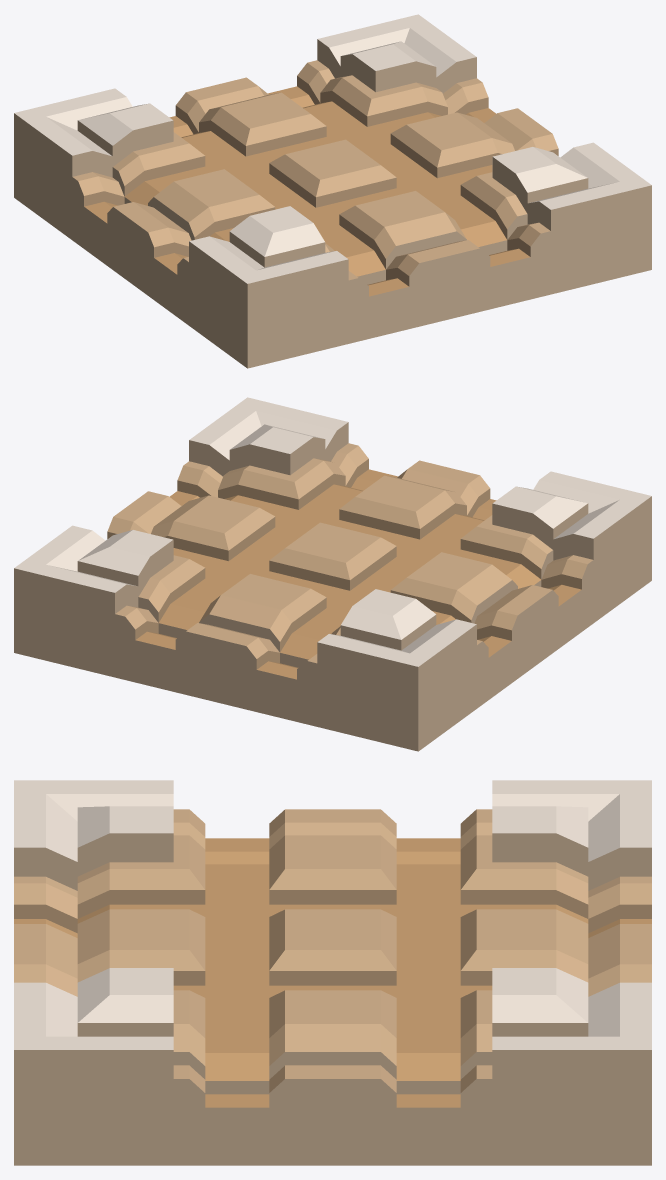
The model's file is Puzzle_Track_Button_Cross.fbx.
3 renders of one model, top to bottom at view 1: azimuth 30°, elevation 25°; view 2: azimuth 150°, elevation 25°; view 3: azimuth 270°, elevation 25°, orthographic. The views are drawn at different scales.
Visible parts, largest first — view 1: Sandstone_Trim.Sandstone_Trim.Sandstone_Trim.Sandstone_Trim. (×2), Sandstone_4.Sandstone_4.Sandstone_4.Sandstone_4.Sandstone_4. (×2), Sandstone_Floor.Sandstone_Floor.Sandstone_Floor.Sandstone_Fl (×2), Sandstone_5.Sandstone_5.Sandstone_5.Sandstone_5.Sandstone_5. (×2); view 2: Sandstone_Trim.Sandstone_Trim.Sandstone_Trim.Sandstone_Trim. (×2), Sandstone_4.Sandstone_4.Sandstone_4.Sandstone_4.Sandstone_4. (×2), Sandstone_Floor.Sandstone_Floor.Sandstone_Floor.Sandstone_Fl (×2), Sandstone_5.Sandstone_5.Sandstone_5.Sandstone_5.Sandstone_5. (×2); view 3: Sandstone_4.Sandstone_4.Sandstone_4.Sandstone_4.Sandstone_4. (×2), Sandstone_Trim.Sandstone_Trim.Sandstone_Trim.Sandstone_Trim. (×2), Sandstone_Floor.Sandstone_Floor.Sandstone_Floor.Sandstone_Fl (×2), Sandstone_5.Sandstone_5.Sandstone_5.Sandstone_5.Sandstone_5. (×2).
Boxes of the visible parts, x1,y1,x2,y2 form: Sandstone_Trim.Sandstone_Trim.Sandstone_Trim.Sandstone_Trim. (×2): (14, 39, 651, 368); Sandstone_4.Sandstone_4.Sandstone_4.Sandstone_4.Sandstone_4. (×2): (73, 60, 558, 286); Sandstone_Floor.Sandstone_Floor.Sandstone_Floor.Sandstone_Fl (×2): (14, 14, 651, 283); Sandstone_5.Sandstone_5.Sandstone_5.Sandstone_5.Sandstone_5. (×2): (84, 86, 530, 296); Sandstone_Trim.Sandstone_Trim.Sandstone_Trim.Sandstone_Trim. (×2): (14, 422, 651, 751); Sandstone_4.Sandstone_4.Sandstone_4.Sandstone_4.Sandstone_4. (×2): (107, 443, 592, 669); Sandstone_Floor.Sandstone_Floor.Sandstone_Floor.Sandstone_Fl (×2): (14, 397, 651, 666); Sandstone_5.Sandstone_5.Sandstone_5.Sandstone_5.Sandstone_5. (×2): (135, 469, 581, 679); Sandstone_4.Sandstone_4.Sandstone_4.Sandstone_4.Sandstone_4. (×2): (14, 809, 651, 1092); Sandstone_Trim.Sandstone_Trim.Sandstone_Trim.Sandstone_Trim. (×2): (14, 833, 651, 1165); Sandstone_Floor.Sandstone_Floor.Sandstone_Floor.Sandstone_Fl (×2): (14, 780, 651, 1049); Sandstone_5.Sandstone_5.Sandstone_5.Sandstone_5.Sandstone_5. (×2): (14, 838, 651, 1107).
Bounding box in the file's own units: 1 × 0.225 × 1.
